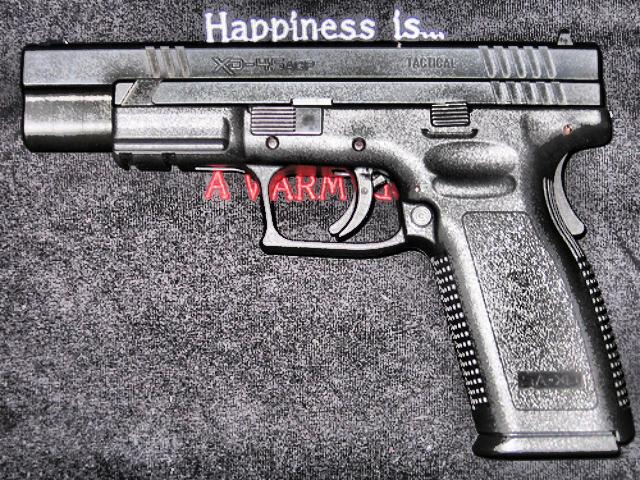pistol: (20, 27, 632, 458)
